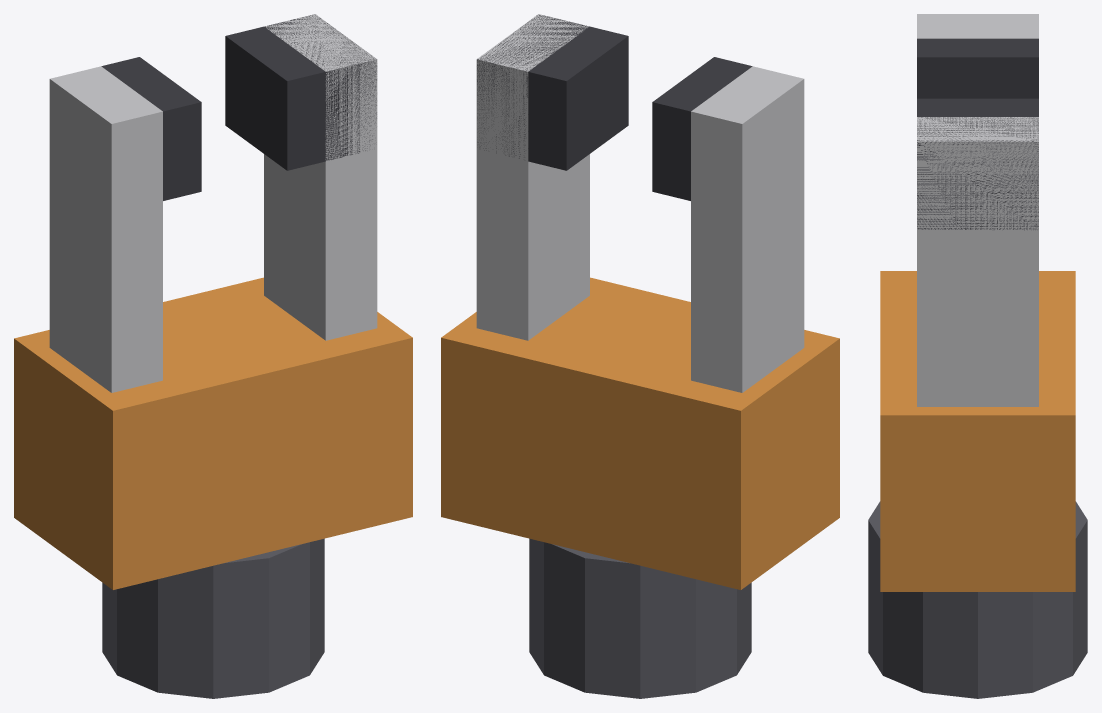
Rendered from robot-gripper.glb.
The picture shows the model from 3 angles, left to right: view 1: azimuth 30°, elevation 25°; view 2: azimuth 150°, elevation 25°; view 3: azimuth 270°, elevation 25°; orthographic projection.
Parts seen in each view (by area): view 1: vantor_s0, vantor_s-1; view 2: vantor_s-1, vantor_s0; view 3: vantor_s0, vantor_s-1.
Part boxes in pixels (x1,y1,x2,y2): vantor_s0: (14, 14, 412, 698); vantor_s-1: (102, 582, 116, 674); vantor_s-1: (441, 59, 742, 698); vantor_s0: (441, 14, 839, 674); vantor_s0: (868, 14, 1087, 698); vantor_s-1: (978, 520, 1087, 698).
Bounding box in the file's own units: 0.14 × 0.26 × 0.09.
